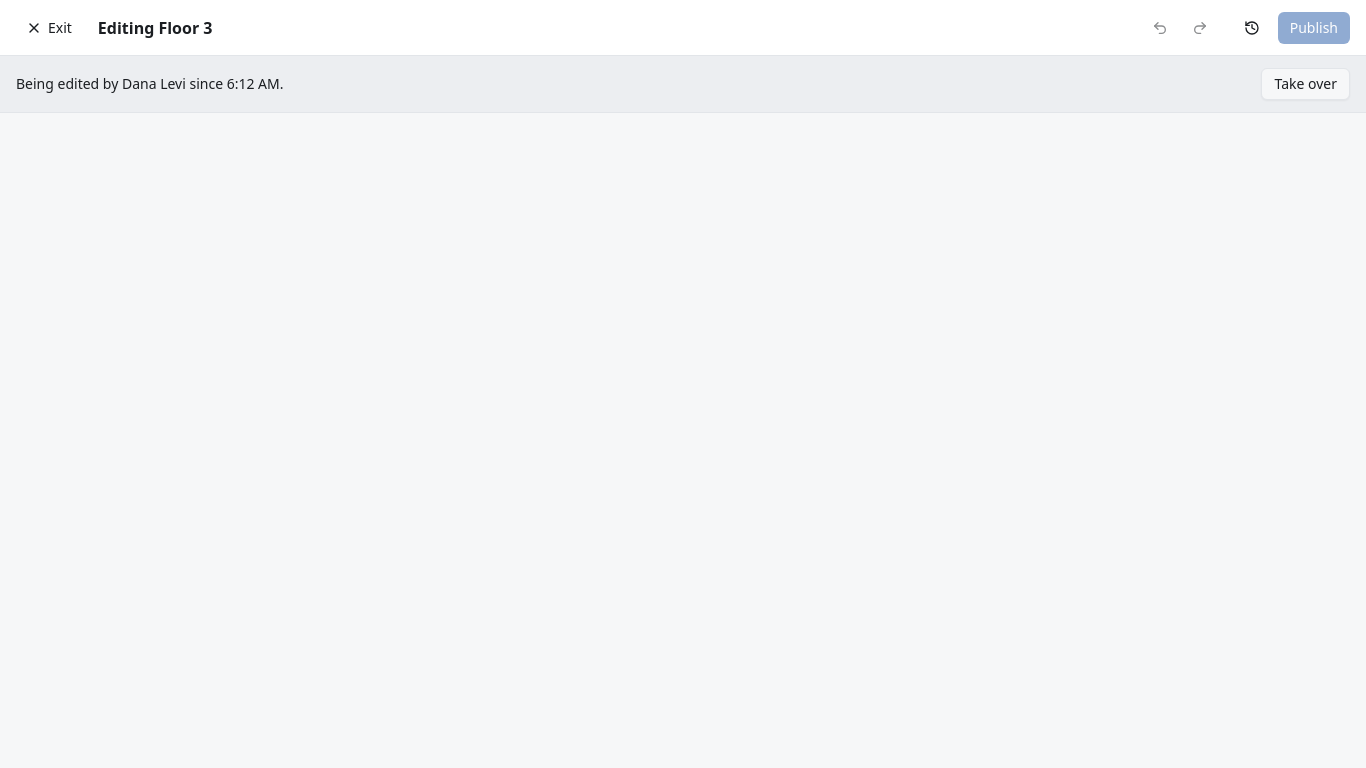
Test: when someone else is editing (docs/0016) › says who, and Take over removes their lock and opens the editor
Expected: the message shows "Being edited by Dana Levi since", [16, 74, 284, 93]
Click the button "Take over" at (1306, 84), box [1262, 68, 1350, 100]
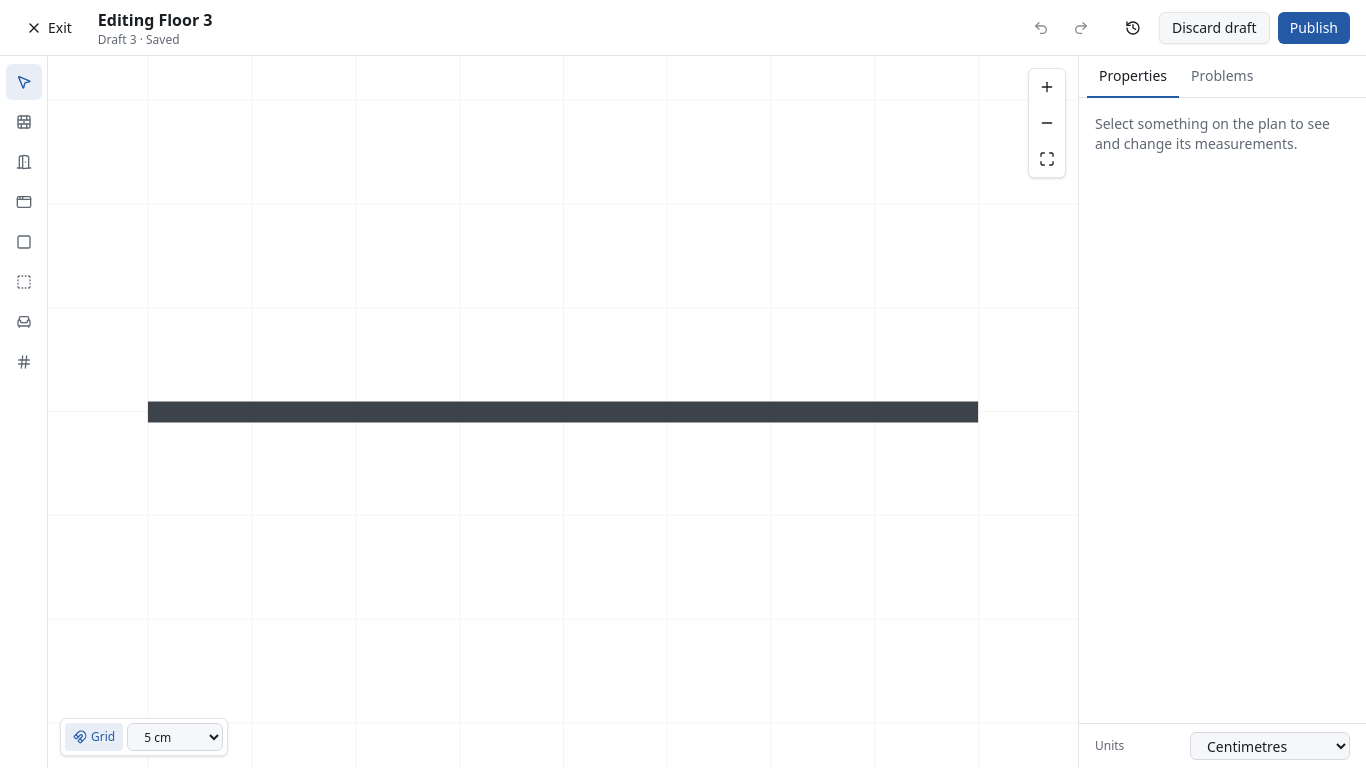
Expected: the text "Draft 3 · Saved" is shown, [98, 30, 180, 48]
Expected: the message "Being edited by Dana Levi since 6:12 AM. Take over" is gone
